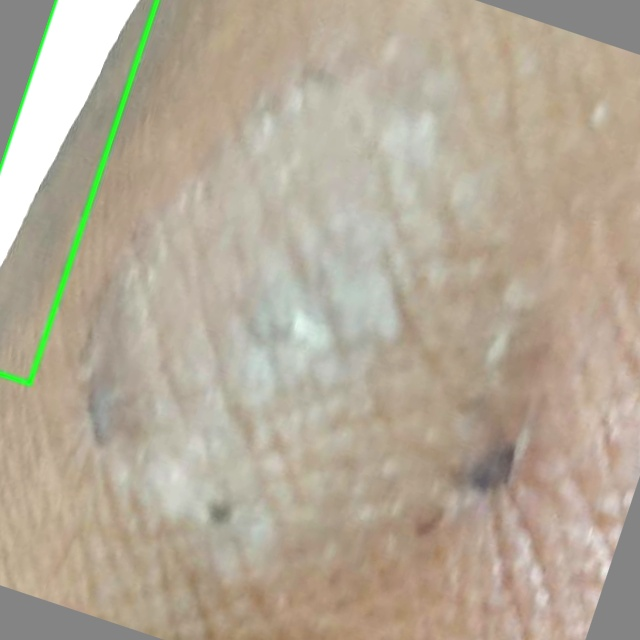Tinea Corporis: (0, 0, 157, 383)
